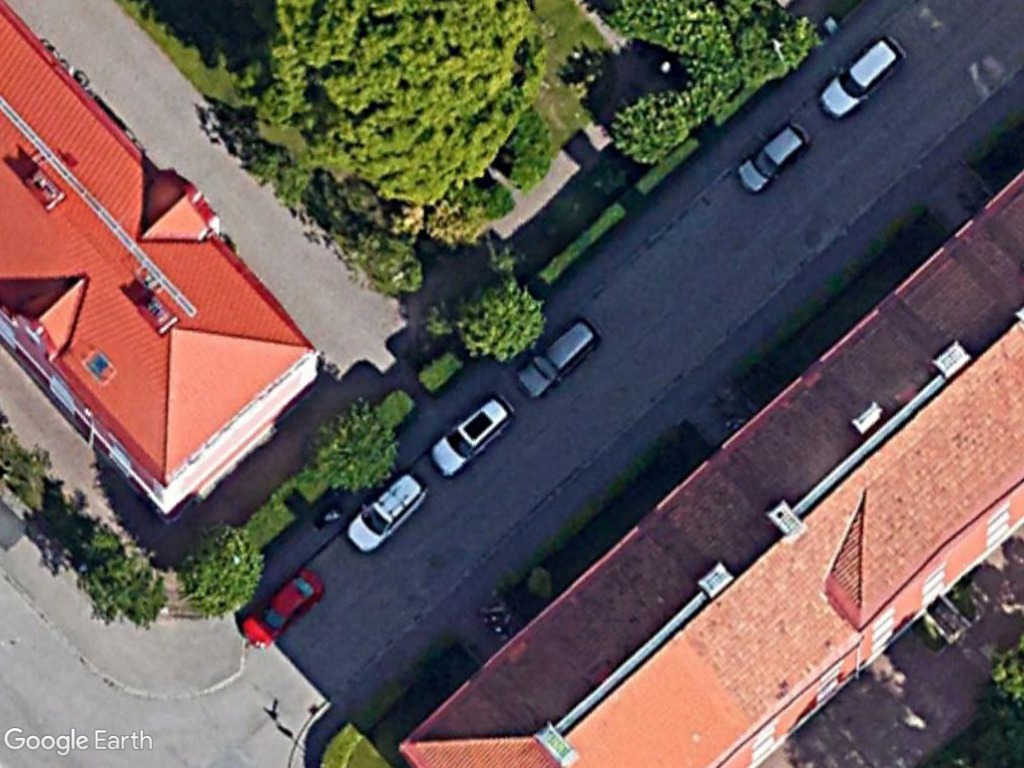car: (427, 385, 520, 481), (814, 31, 912, 121), (510, 312, 603, 405), (235, 564, 329, 651), (339, 467, 427, 558), (734, 116, 814, 200)
